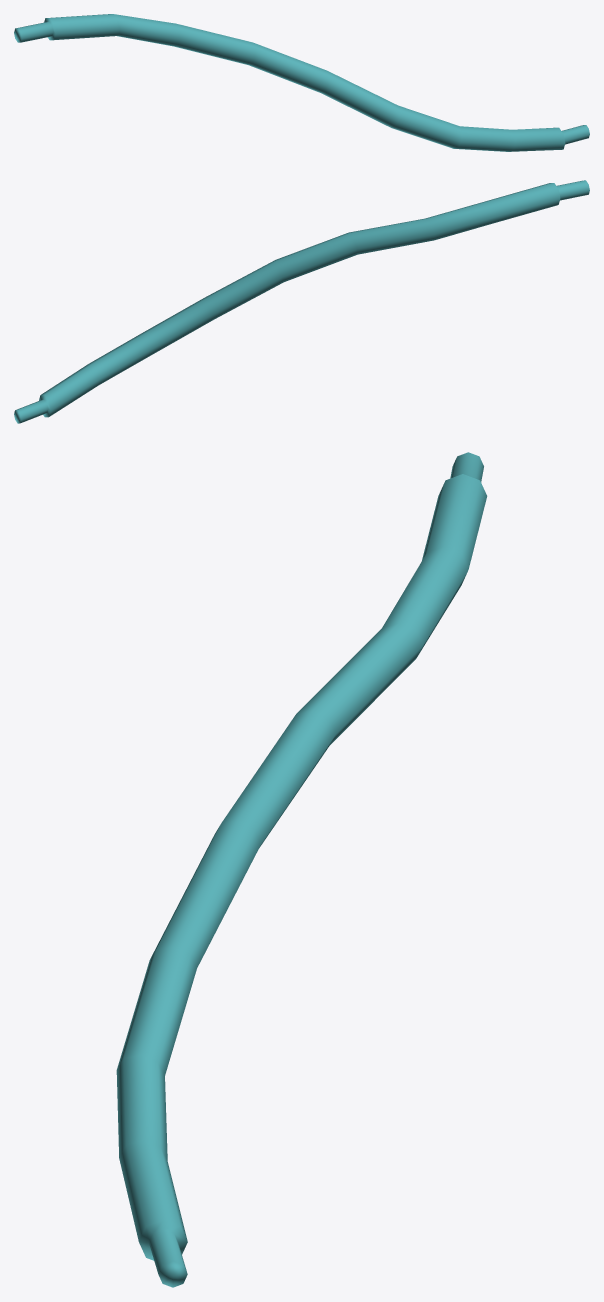
The model's file is Wire.fbx.
The picture shows the model from 3 angles, top to bottom: view 1: azimuth 30°, elevation 25°; view 2: azimuth 210°, elevation 25°; view 3: azimuth 270°, elevation 25°; orthographic projection. The views are drawn at different scales.
Visible parts, largest first — view 1: pCylinder103; view 2: pCylinder103; view 3: pCylinder103.
Boxes of the visible parts, x1,y1,x2,y2 form: pCylinder103: [14, 14, 589, 151]; pCylinder103: [14, 180, 589, 423]; pCylinder103: [116, 452, 487, 1287].
Size of the model in its own units: 60.34 by 21.33 by 19.57.
